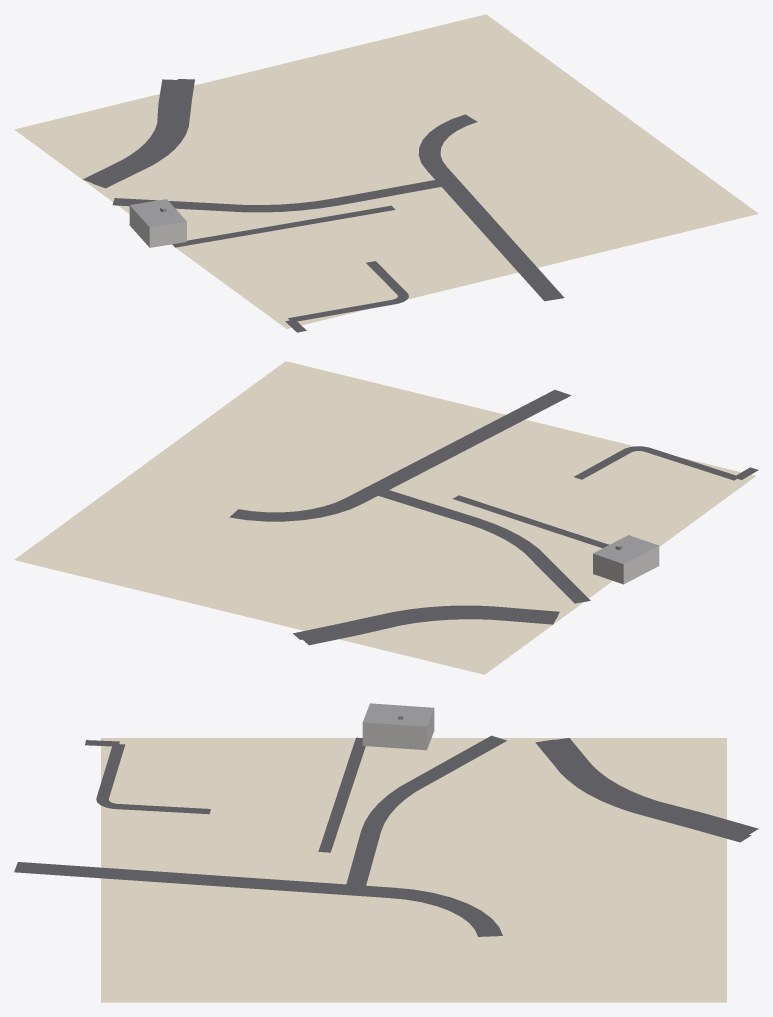
The model's file is tile_5_-6_far.glb.
3 views of the same model, one above another, from view 1: azimuth 30°, elevation 25°; view 2: azimuth 150°, elevation 25°; view 3: azimuth 270°, elevation 25° (orthographic). The views are drawn at different scales.
Parts seen in each view (by area): view 1: nature_ground, roads_asphalt, buildings_concrete_light, buildings_roof; view 2: nature_ground, roads_asphalt, buildings_concrete_light, buildings_roof; view 3: nature_ground, roads_asphalt, buildings_concrete_light, buildings_roof.
Boxes of the visible parts, x1,y1,x2,y2 form: nature_ground: [14, 14, 758, 328]; roads_asphalt: [83, 79, 564, 332]; buildings_concrete_light: [129, 205, 186, 247]; buildings_roof: [130, 199, 186, 227]; nature_ground: [14, 361, 755, 674]; roads_asphalt: [229, 390, 758, 645]; buildings_concrete_light: [593, 546, 659, 584]; buildings_roof: [593, 535, 658, 563]; nature_ground: [101, 738, 726, 1002]; roads_asphalt: [14, 735, 758, 936]; buildings_concrete_light: [362, 708, 434, 750]; buildings_roof: [363, 703, 433, 726].
Bounding box in the file's own units: 260 × 11.98 × 298.
